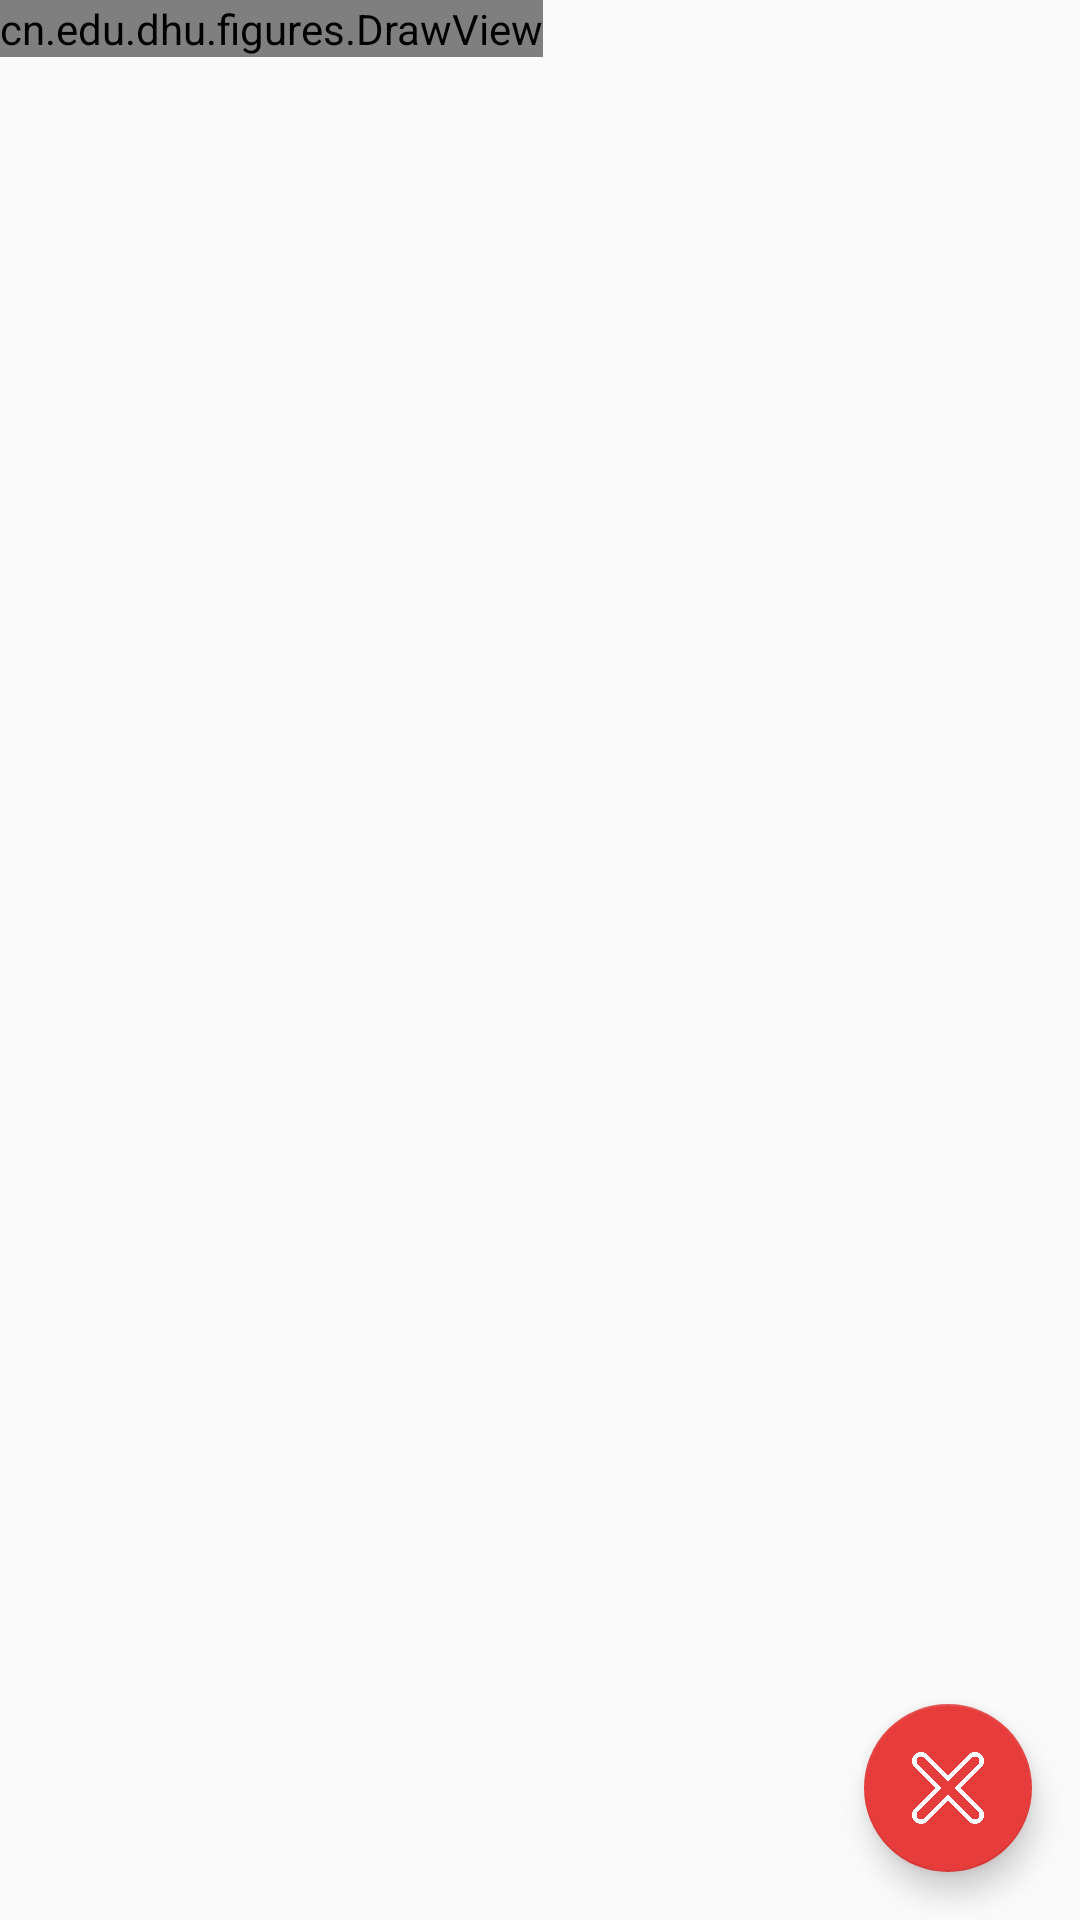

Icons on this 1080px×1920px Android screen, each with its box as (x1, y1, x2, y2):
close: (864, 1704, 1032, 1872)
